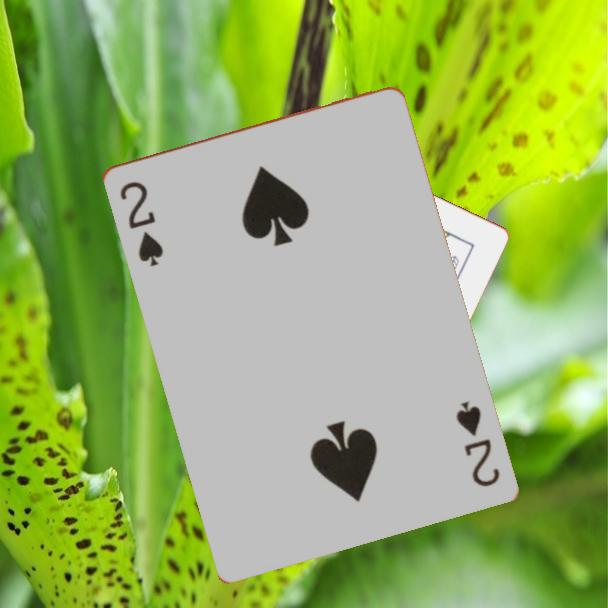s02: (451, 397, 502, 490), (116, 177, 166, 270)
